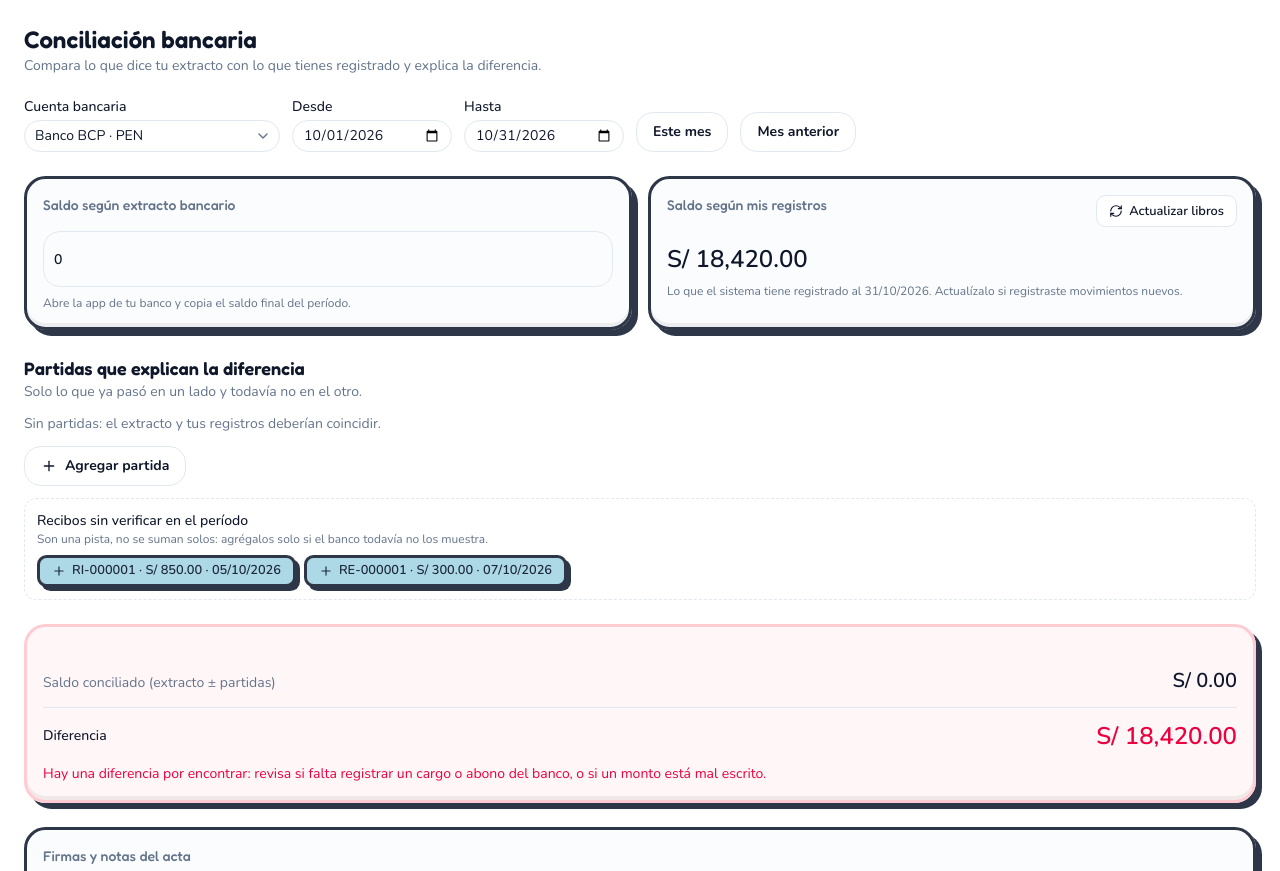
Test: ConciliacionView › muestra Conciliado cuando la diferencia llega a cero
The width and height of the screenshot is (1280, 871).
Expected: the text "Saldo según mis registros" is shown, top-left (667, 195), bottom-right (827, 215)
Replace the text in the field named "Saldo según extracto bancario" with "18420" at [328, 259], box top-left (43, 231), bottom-right (613, 287)
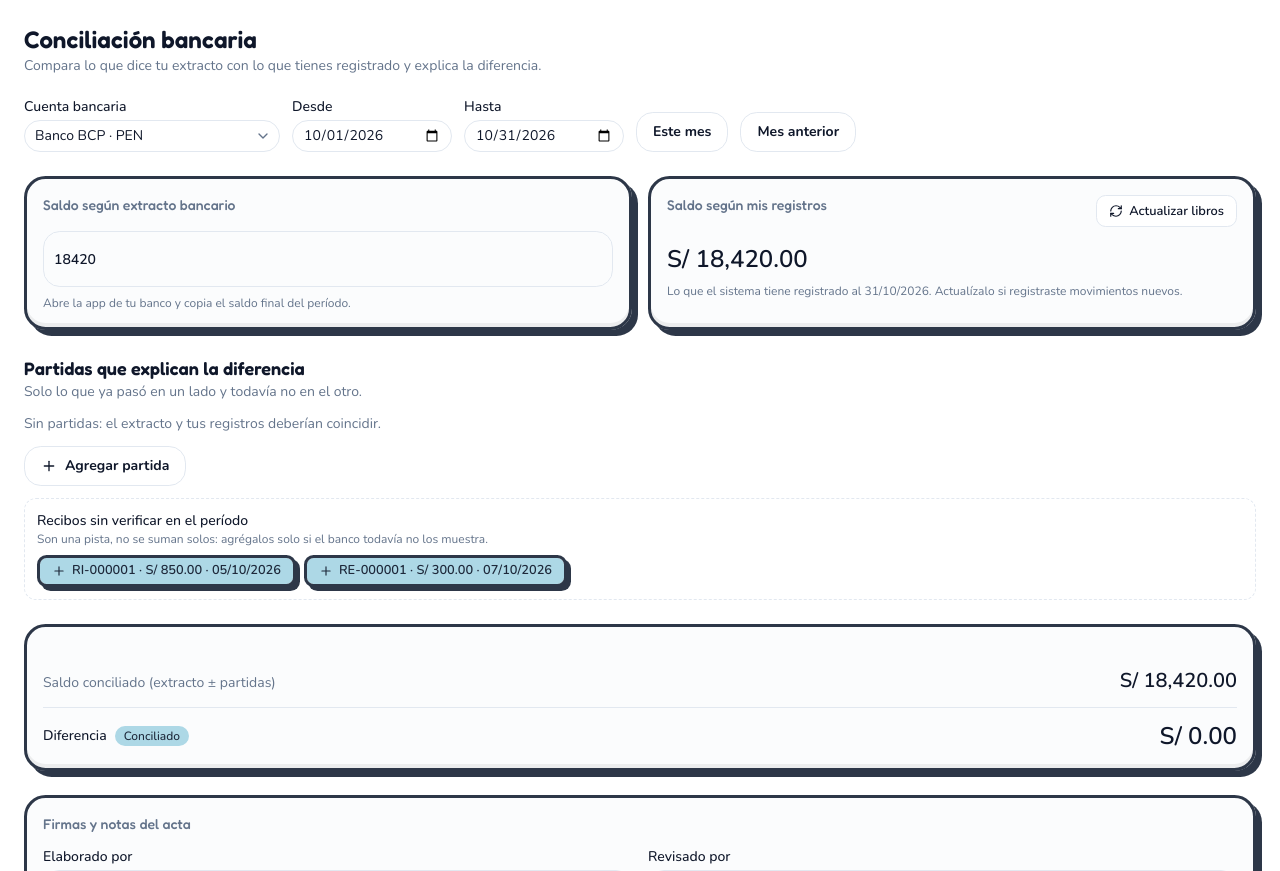
Result: the text "Conciliado" is shown at top-left (115, 726), bottom-right (189, 746)
Result: the text "Hay una diferencia por encontrar" is gone
